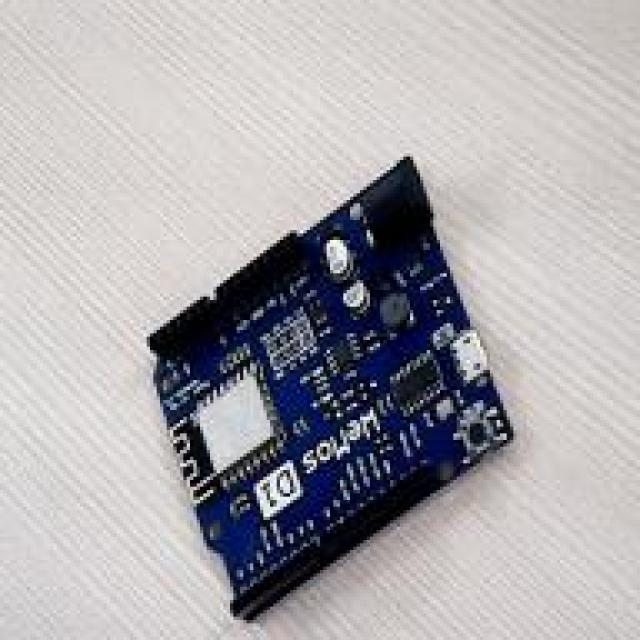Wemos: (148, 158, 511, 614)
